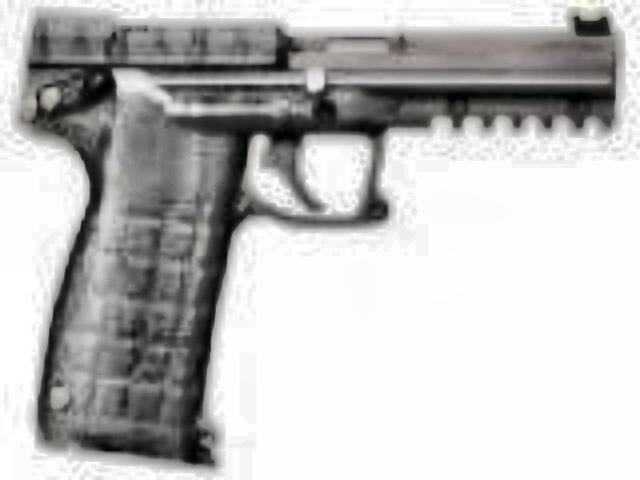pistol: (20, 0, 612, 456)
